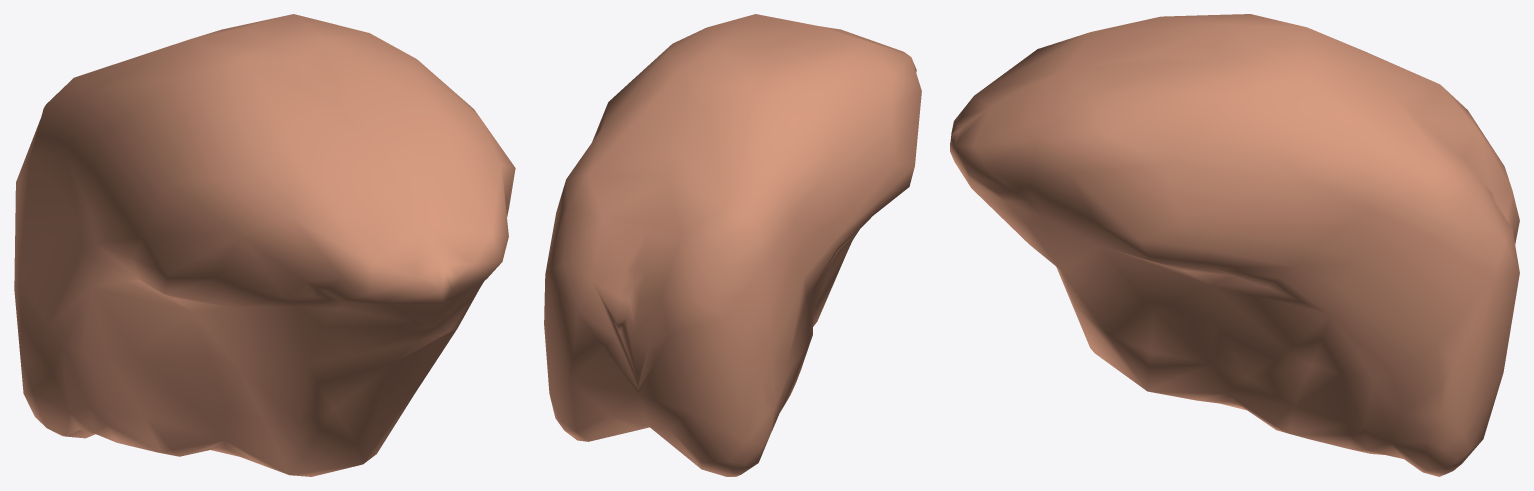
Rendered from tongue.glb.
The picture shows the model from 3 angles, left to right: view 1: azimuth 30°, elevation 25°; view 2: azimuth 150°, elevation 25°; view 3: azimuth 270°, elevation 25°; orthographic projection. The views are drawn at different scales.
Parts seen in each view (by area): view 1: Tongue; view 2: Tongue; view 3: Tongue.
Part boxes in pixels (x1,y1,x2,y2): Tongue: (14,14,515,476); Tongue: (544,14,921,476); Tongue: (950,14,1519,476).
Bounding box in the file's own units: 0.0337 × 0.0427 × 0.0563.
